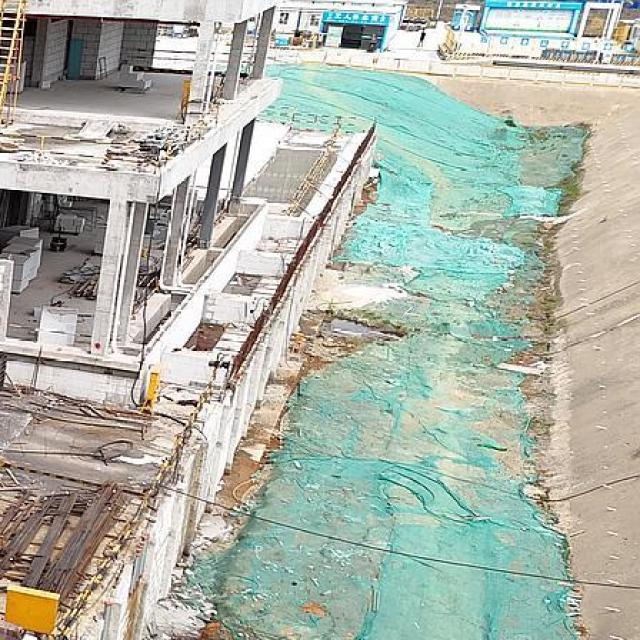edge_guardrail: (56, 368, 219, 640), (226, 121, 376, 389), (0, 130, 144, 163), (7, 323, 92, 338), (292, 113, 357, 127), (133, 277, 158, 313), (152, 49, 197, 62), (187, 223, 200, 248), (261, 105, 289, 116)
